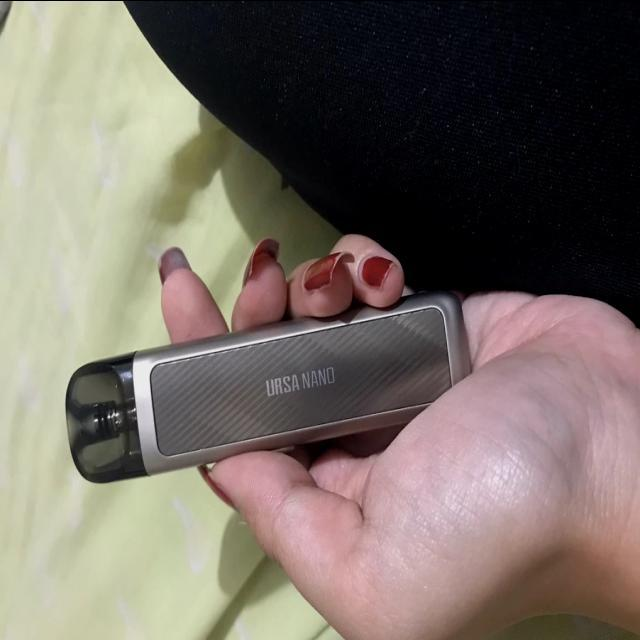Hazard: (59, 284, 473, 487)
